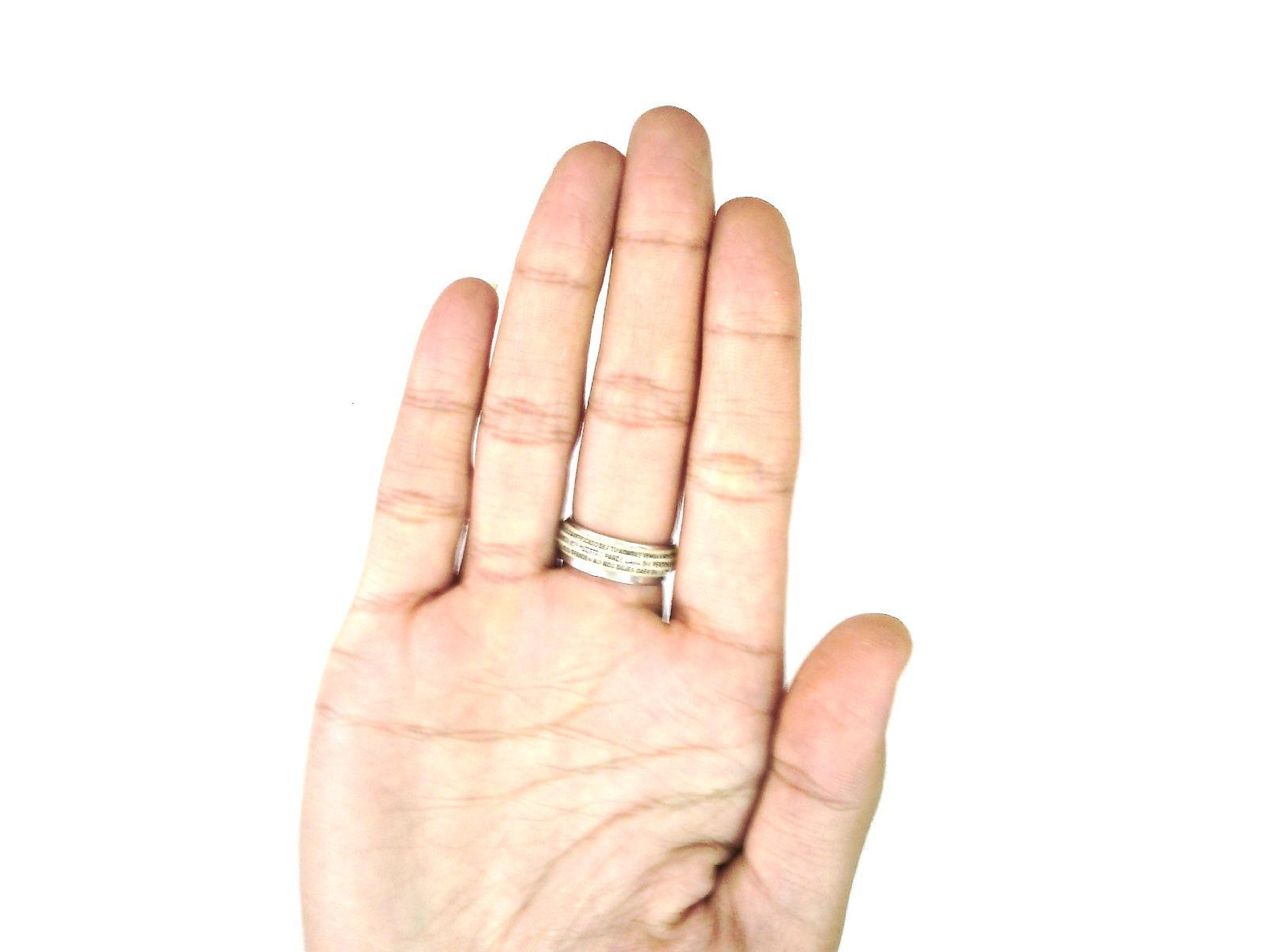open_palm: (294, 106, 915, 952)
